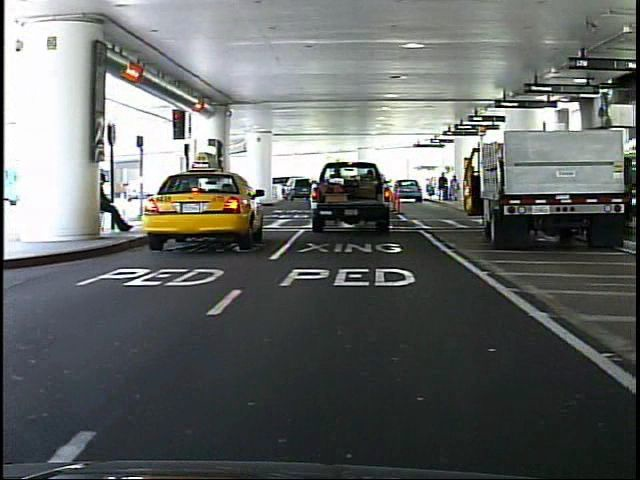person: (100, 170, 137, 237), (176, 167, 197, 217)
